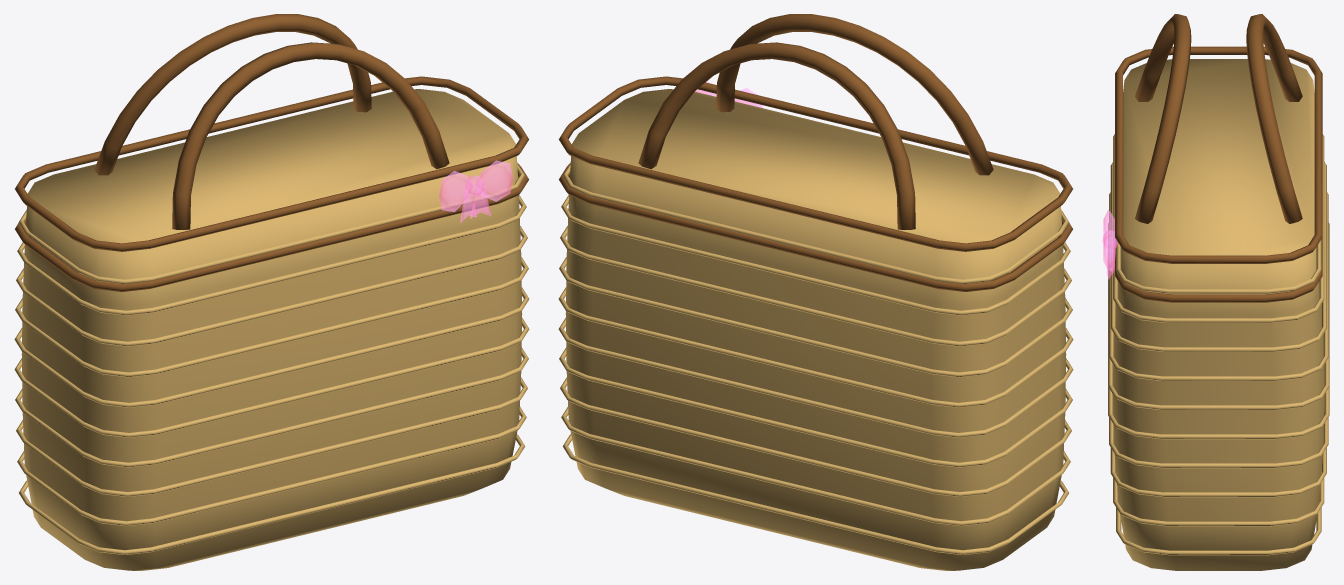
Rendered from straw_beach_bag.glb.
3 views of the same model, side by side, from view 1: azimuth 30°, elevation 25°; view 2: azimuth 150°, elevation 25°; view 3: azimuth 270°, elevation 25° (orthographic). The views are drawn at different scales.
Visible parts, largest first — view 1: straw_beach_bag; view 2: straw_beach_bag; view 3: straw_beach_bag.
Boxes of the visible parts, x1=… form: straw_beach_bag: x1=14, y1=14, x2=529, y2=570; straw_beach_bag: x1=558, y1=14, x2=1073, y2=570; straw_beach_bag: x1=1102, y1=14, x2=1329, y2=570.
Size of the model in its own units: 0.399 by 0.3955 by 0.1805.
